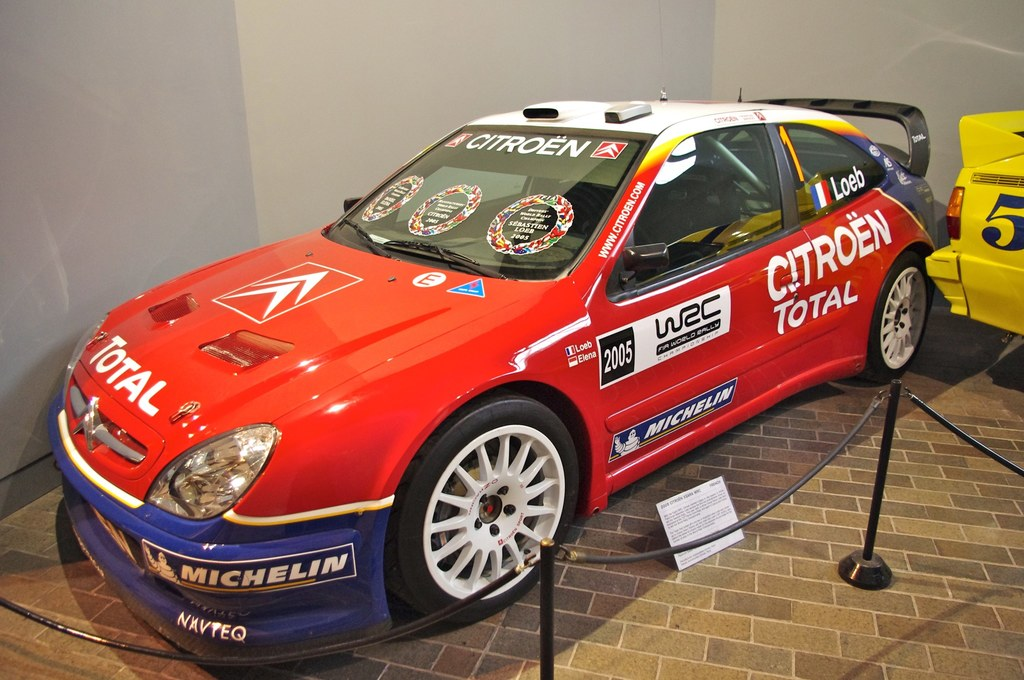Car: (65, 76, 953, 637)
